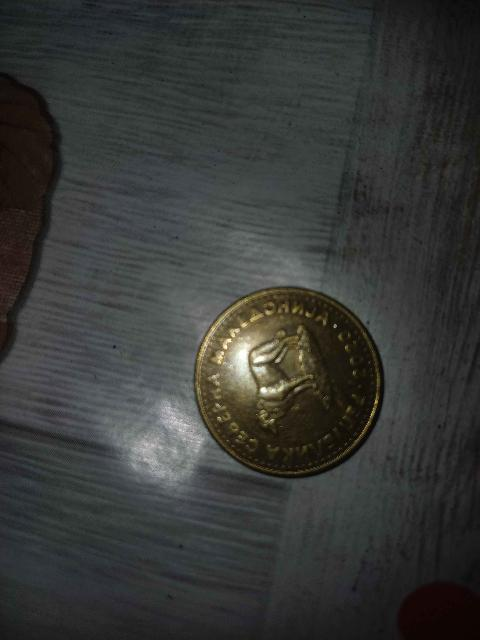1_coin: (196, 288, 382, 476)
